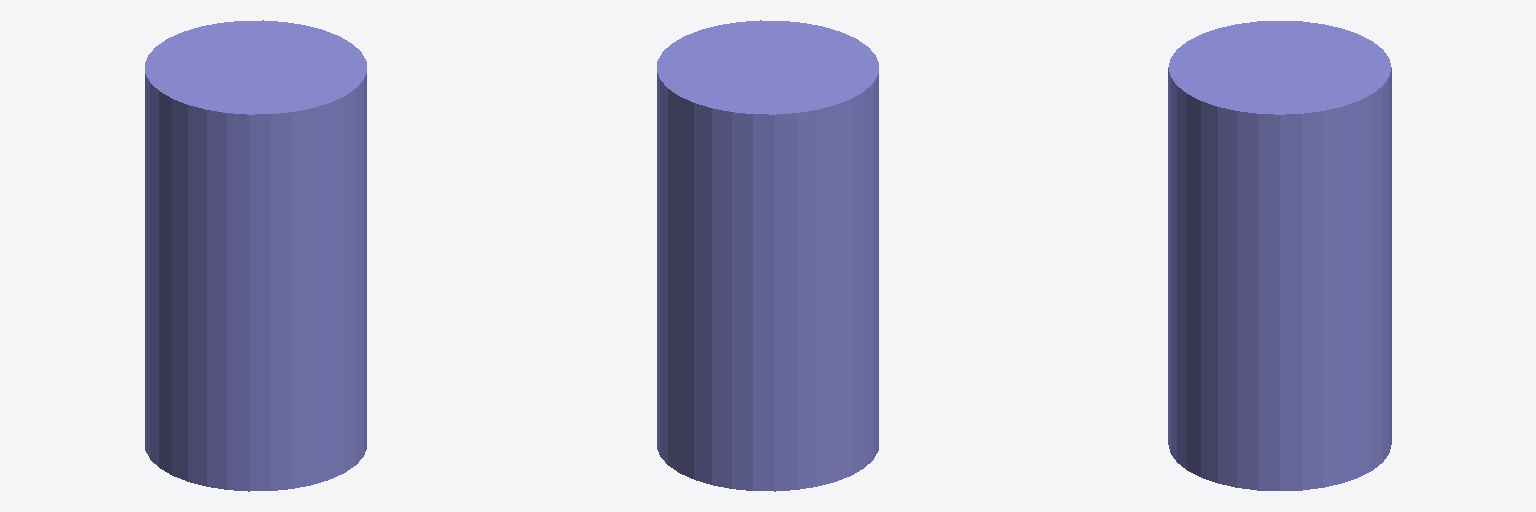
URDF robot description (water_bottle):
<robot name="water_bottle">
  <link name="base_link">
    <collision>
      <origin xyz="0.0 0.0 0.0615" />
      <geometry>
        <cylinder length="0.123" radius="0.033" />
      </geometry>
    </collision>
    <visual>
      <origin xyz="0.0 0.0 0.0615" />
      <material name="c">
        <color rgba="0.6 0.6 0.9 1.0" />
      </material>
      <geometry>
        <cylinder length="0.123" radius="0.033" />
      </geometry>
    </visual>
  </link>
</robot>

--- Render facts (derived) ---
The picture shows the robot from 3 angles, left to right: view 1: azimuth 30°, elevation 25°; view 2: azimuth 150°, elevation 25°; view 3: azimuth 270°, elevation 25°; orthographic projection.
Robot: water_bottle — 1 links, 0 joints (none); root link base_link; default pose: all joints at 0.
Visible links, largest first — view 1: base_link; view 2: base_link; view 3: base_link.
Link boxes in pixels (box(x1,y1,x2,y2)): base_link: box(145, 20, 366, 491); base_link: box(657, 20, 878, 491); base_link: box(1168, 21, 1391, 490).
Bounding box of the posed robot: 0.066 × 0.066 × 0.123 m (x, y, z).
Geometry: primitives only (box / cylinder / sphere), no mesh files.